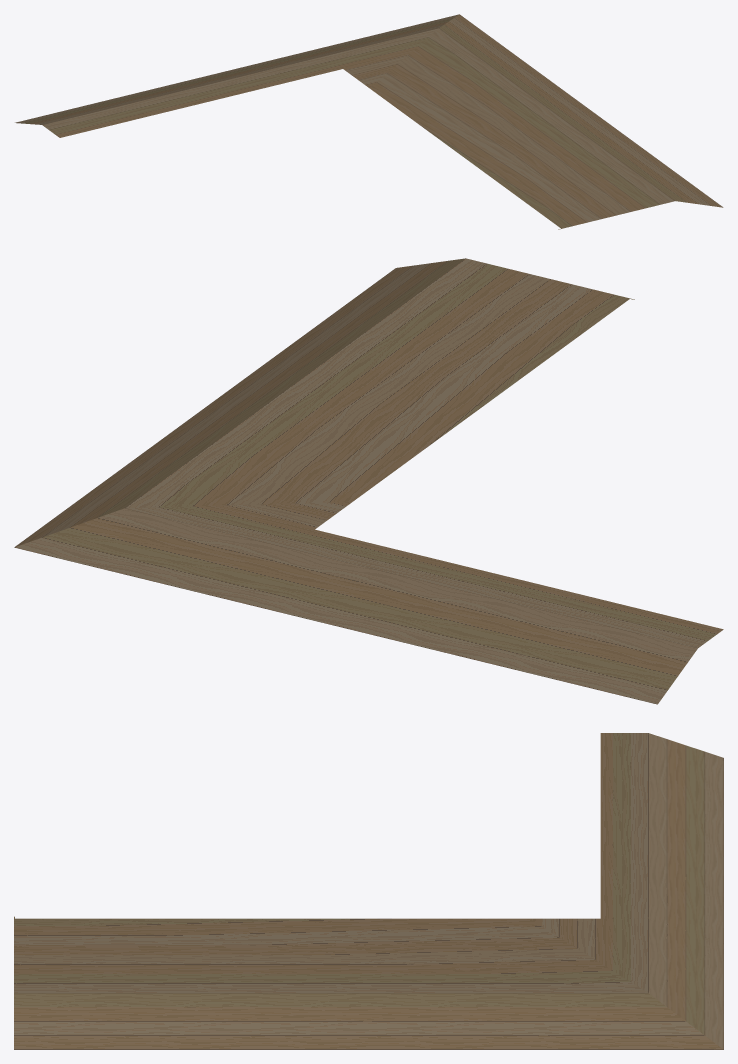
The model's file is kd_stage_135ded_4_23_exterior_piece_0.glb.
3 views of the same model, one above another, from view 1: azimuth 30°, elevation 25°; view 2: azimuth 150°, elevation 25°; view 3: azimuth 270°, elevation 25° (orthographic). The views are drawn at different scales.
Visible parts, largest first — view 1: kd_stage_135ded_4_23_exterior_piece_0; view 2: kd_stage_135ded_4_23_exterior_piece_0; view 3: kd_stage_135ded_4_23_exterior_piece_0.
Boxes of the visible parts, left/top/right/bottom form: kd_stage_135ded_4_23_exterior_piece_0: left=15, top=14, right=723, bottom=229; kd_stage_135ded_4_23_exterior_piece_0: left=14, top=258, right=723, bottom=704; kd_stage_135ded_4_23_exterior_piece_0: left=14, top=733, right=723, bottom=1049.
Bounding box in the file's own units: 5.52 × 0.2187 × 5.67.
Materials: 1 (1 with a texture image).
